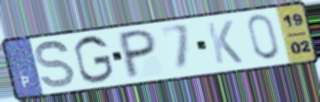0: (246, 13, 283, 64)
7: (158, 24, 193, 74)
G: (72, 34, 116, 85)
K: (204, 19, 245, 66)
P: (118, 27, 158, 81)
S: (33, 39, 77, 89)
